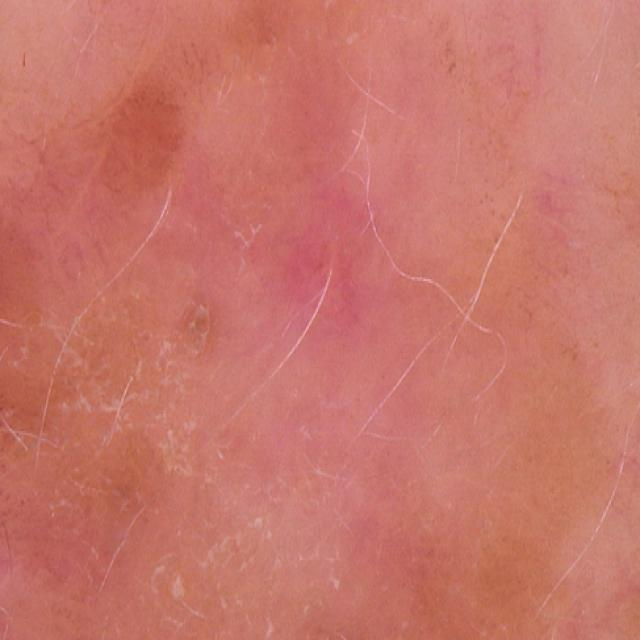Keratosis: (1, 218, 469, 640)
